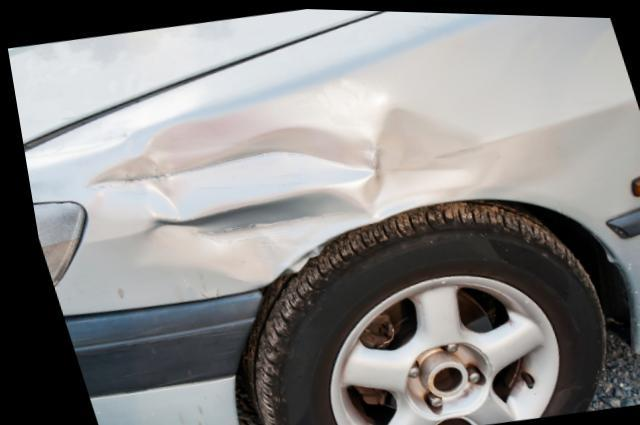dent: (86, 79, 484, 286)
